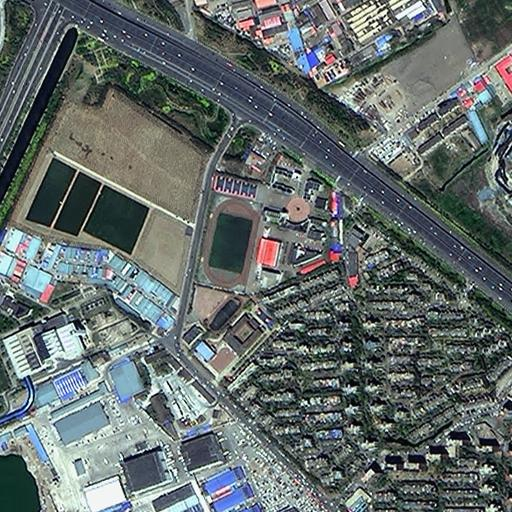school: (194, 166, 346, 288), (177, 286, 265, 377)
